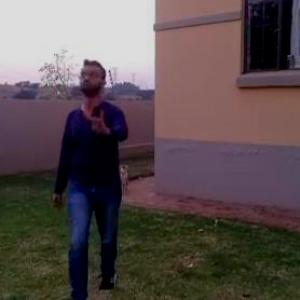takeoff-hand: (78, 105, 117, 144)
